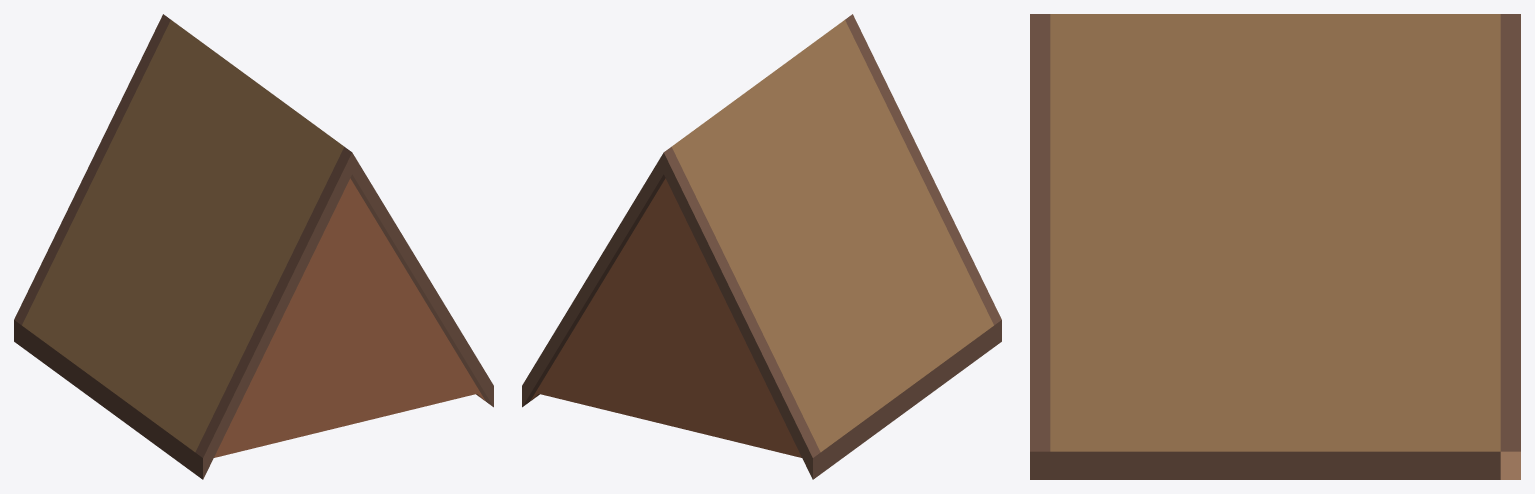
Rendered from RUMAH ADAT TAMBI.fbx.
The picture shows the model from 3 angles, left to right: view 1: azimuth 30°, elevation 25°; view 2: azimuth 150°, elevation 25°; view 3: azimuth 270°, elevation 25°; orthographic projection. The views are drawn at different scales.
Visible parts, largest first — view 1: Cube.018; view 2: Cube.018; view 3: Cube.018.
Boxes of the visible parts, <box> form: Cube.018: <box>14,14,493,479</box>; Cube.018: <box>522,14,1001,479</box>; Cube.018: <box>1030,14,1520,479</box>.
Bounding box in the file's own units: 2773 × 2652 × 3121.
